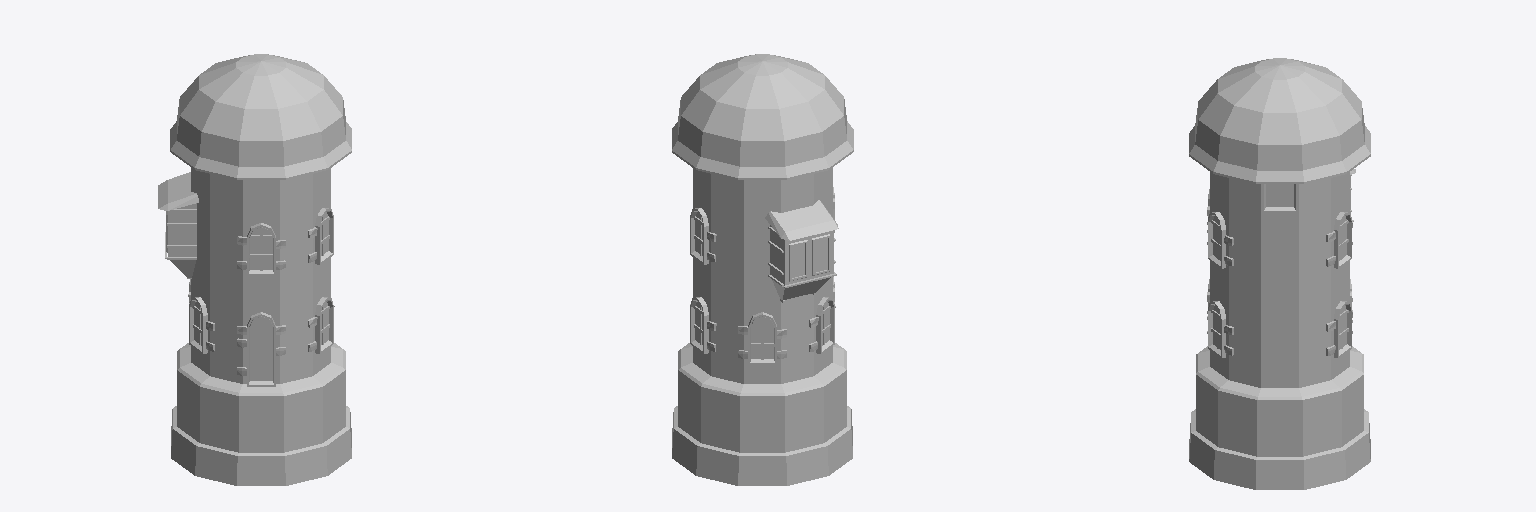
The model's file is windmill_structure.obj.
3 renders of one model, left to right at view 1: azimuth 30°, elevation 25°; view 2: azimuth 150°, elevation 25°; view 3: azimuth 270°, elevation 25°, orthographic.
Parts seen in each view (by area): view 1: mill; view 2: mill; view 3: mill.
Boxes of the visible parts, <box> form: mill: <box>158,54,351,485</box>; mill: <box>672,54,853,485</box>; mill: <box>1189,58,1370,489</box>.
Size of the model in its own units: 1.32 by 2.89 by 1.23.